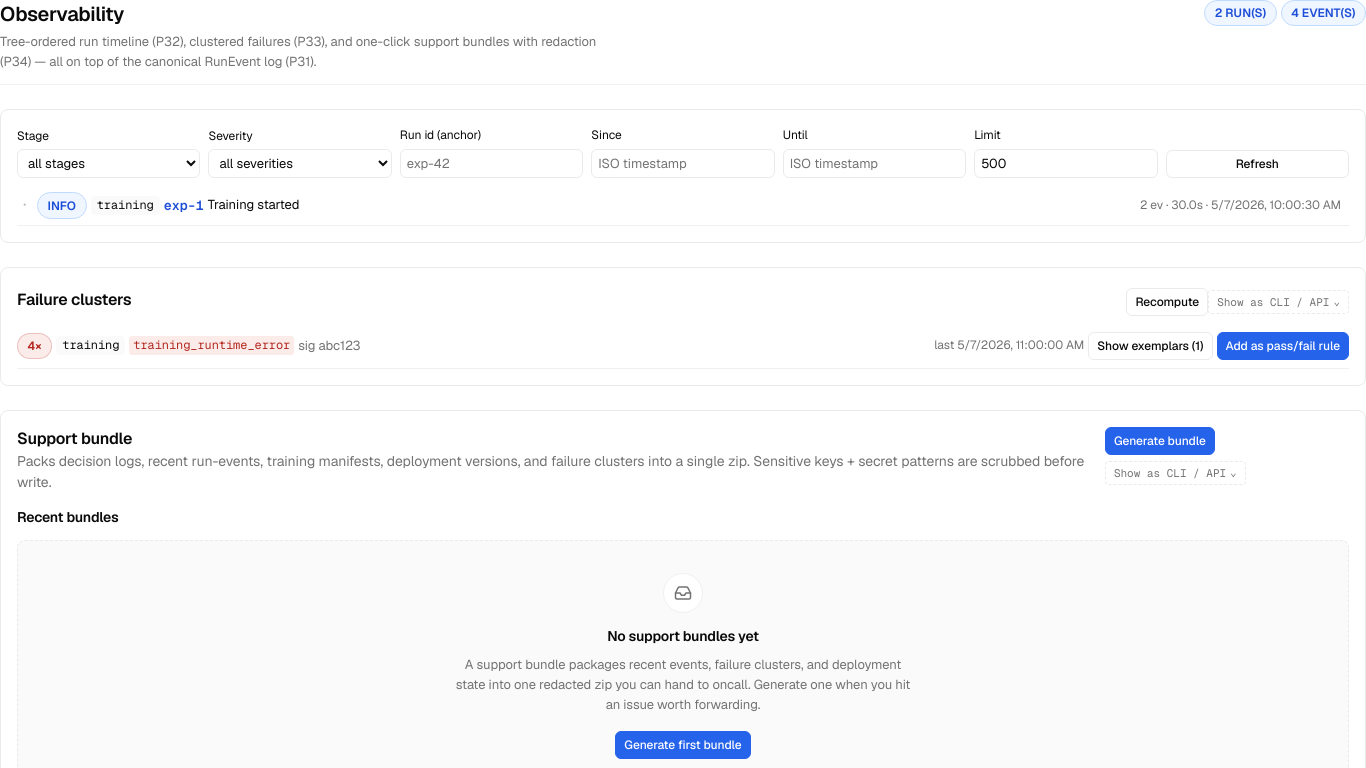
it: ProjectObservabilityPage › clicking a timeline run opens the drilldown drawer
Click the button with aria-label "Open events for exp-1" at (184, 206), box [164,197,204,214]
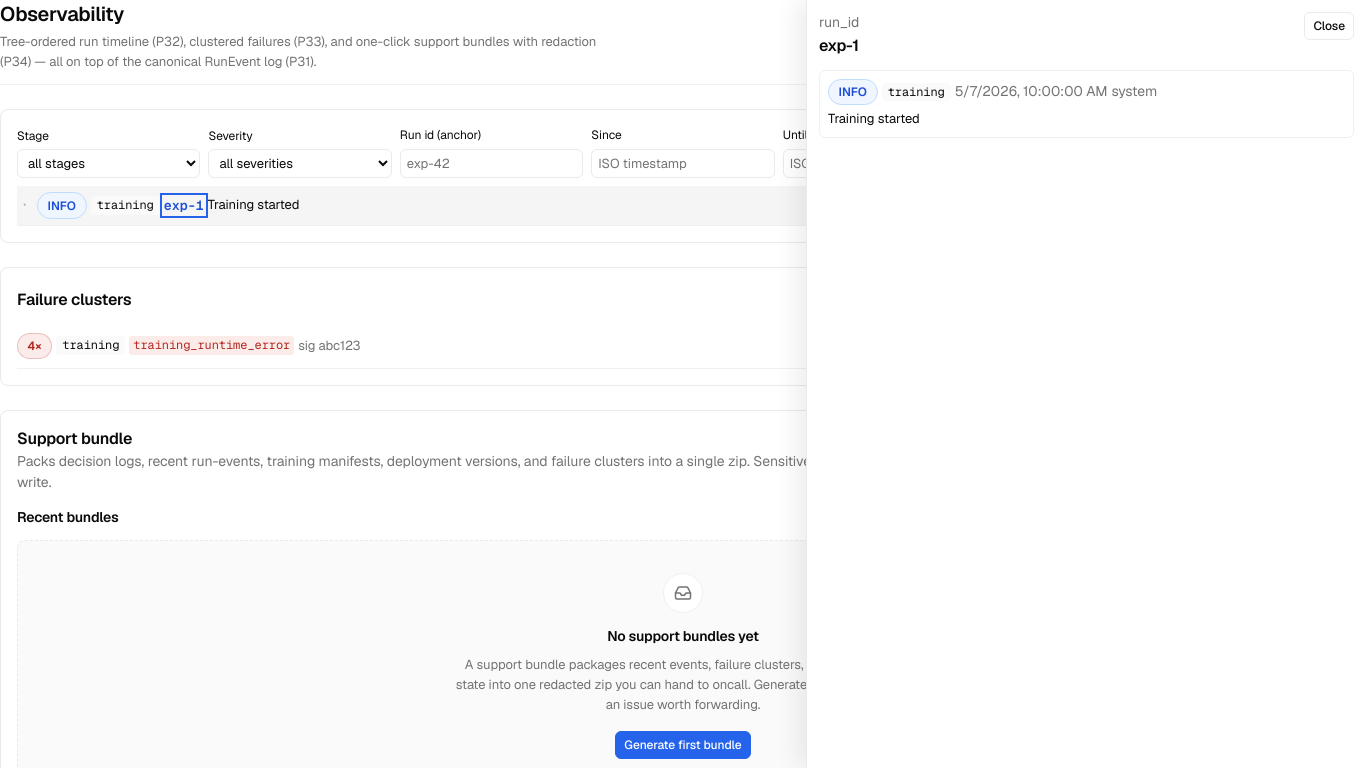
Check: the dialog named "Events for run exp-1" is shown, box [806,0,1365,767]
